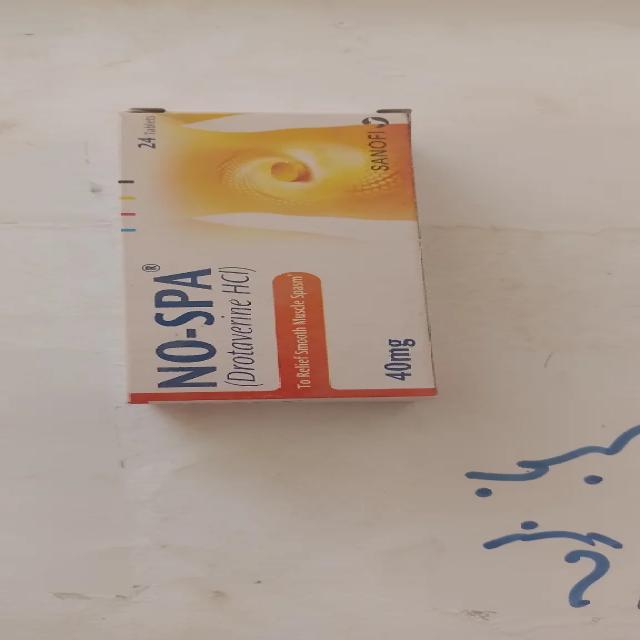drug-name: (144, 265, 219, 391)
